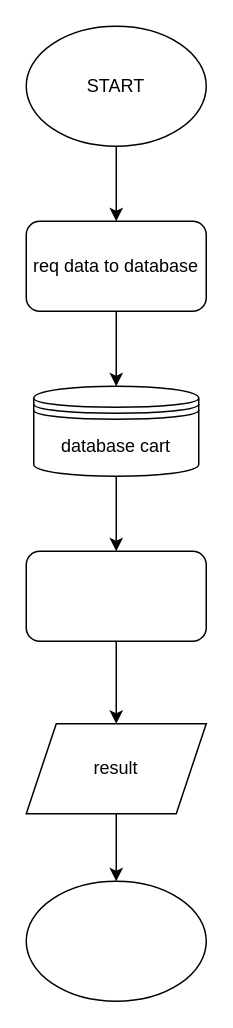
Some shapes in this 233 by 1028 pixel diagram are drawn without their labels. The centre of each missing label's shape, as x and y in pixels:
"END" belongs at point (115, 940).
"send data to user from database with JOIN table items and cart" belongs at point (115, 595).
